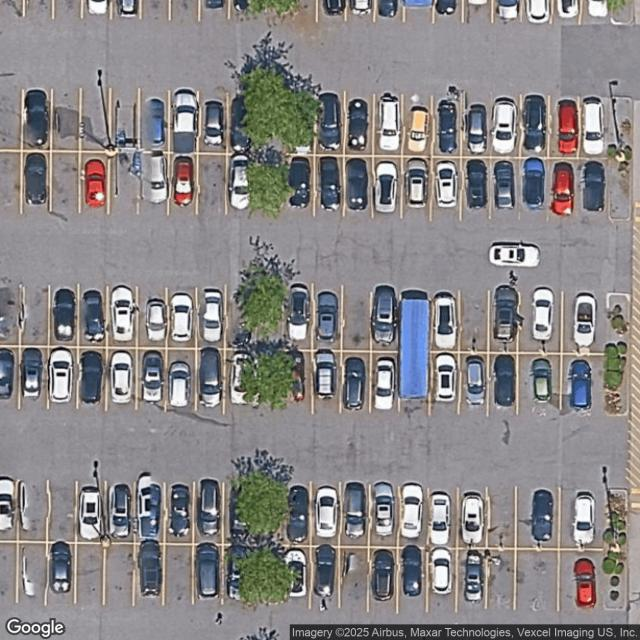car: (493, 284, 522, 338), (137, 473, 161, 538), (228, 349, 256, 404), (491, 97, 518, 154), (371, 284, 396, 344), (172, 87, 198, 144), (48, 348, 74, 403), (24, 88, 48, 147), (78, 484, 104, 538), (141, 152, 168, 204), (433, 291, 458, 347), (195, 543, 220, 598), (488, 244, 538, 271), (138, 540, 162, 596), (530, 489, 554, 545), (198, 348, 221, 406), (582, 96, 605, 153), (550, 163, 575, 215), (572, 492, 596, 546), (526, 96, 548, 154), (80, 351, 104, 404), (52, 288, 76, 341), (568, 359, 592, 412), (371, 548, 395, 600), (109, 351, 133, 403), (141, 351, 165, 403), (168, 482, 191, 536), (228, 155, 251, 209), (522, 158, 546, 209), (573, 558, 597, 609), (373, 482, 395, 537), (288, 283, 309, 340), (82, 290, 105, 342), (24, 153, 47, 205), (112, 288, 134, 342), (558, 100, 580, 154), (322, 88, 342, 147), (377, 96, 398, 152), (170, 292, 194, 341), (582, 162, 606, 211), (282, 548, 306, 597), (575, 295, 597, 348), (346, 158, 368, 211), (314, 545, 336, 598), (167, 360, 191, 408), (462, 553, 485, 603), (531, 290, 553, 342), (21, 348, 43, 400), (287, 486, 308, 540), (429, 546, 452, 595), (494, 355, 516, 406), (288, 157, 310, 208), (403, 484, 424, 537), (406, 157, 429, 205), (314, 350, 336, 400), (231, 96, 251, 151), (315, 290, 337, 340), (200, 478, 219, 535), (435, 160, 458, 207), (346, 482, 366, 536), (462, 493, 482, 547), (320, 156, 340, 210), (316, 488, 337, 539), (84, 158, 106, 206), (465, 160, 486, 210), (173, 156, 194, 206), (439, 100, 458, 155), (376, 360, 396, 412), (203, 291, 223, 343), (145, 297, 168, 342), (408, 105, 430, 152), (229, 486, 248, 540), (493, 160, 514, 208), (404, 545, 423, 597), (114, 484, 133, 536), (374, 166, 394, 215), (146, 97, 165, 148), (531, 358, 552, 404), (285, 346, 305, 394), (430, 494, 449, 544), (436, 354, 456, 401), (346, 358, 364, 409), (466, 104, 484, 152), (227, 546, 243, 600), (205, 104, 224, 148), (0, 477, 16, 529), (465, 358, 483, 404), (55, 543, 71, 594), (349, 103, 366, 151), (0, 348, 14, 400), (21, 554, 35, 597), (526, 0, 550, 23), (497, 0, 519, 20), (557, 0, 579, 19), (128, 150, 142, 178), (586, 0, 608, 17), (118, 0, 138, 18), (378, 0, 398, 17), (233, 328, 251, 346), (87, 1, 108, 16), (324, 0, 344, 15), (436, 0, 456, 15), (352, 0, 370, 15), (233, 0, 250, 12), (206, 0, 223, 11)
